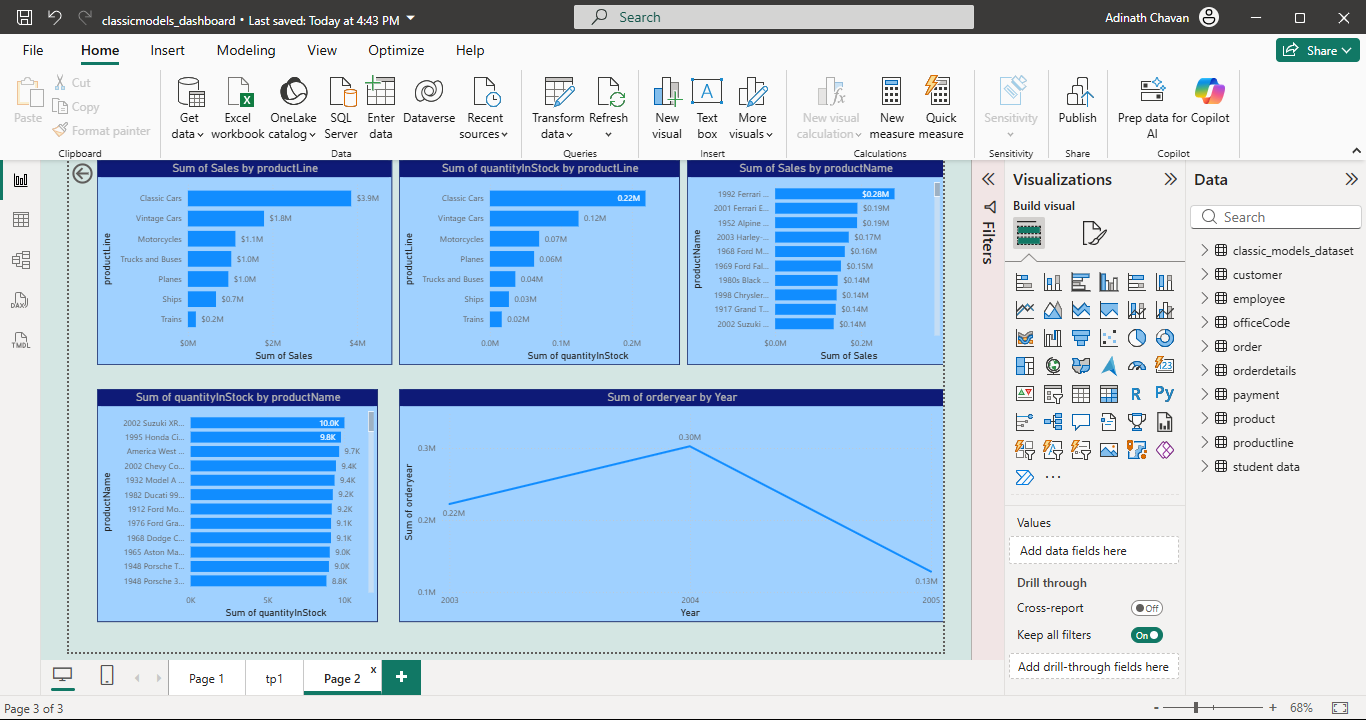

What the dashboard file says about the page in this screenshot:
{"tool":"powerbi","page":{"name":"Page 2","canvas":[1280,720],"ordinal":2},"visuals":[{"type":"actionButton","box":[0,0,41,39.5],"z":0},{"type":"barChart","fields":{"Category":["productline.productLine"],"Y":["Sum(orderdetails.Sales)"]},"box":[41,0,431.7,300],"z":1000},{"type":"barChart","fields":{"Y":["Sum(orderdetails.Sales)"],"Category":["product.productName"]},"box":[904.4,0,376.1,300],"z":2000},{"type":"barChart","fields":{"Category":["product.productName"],"Y":["Sum(product.quantityInStock)"]},"box":[41,335.1,411.2,341],"z":3000},{"type":"barChart","fields":{"Category":["productline.productLine"],"Y":["Sum(product.quantityInStock)"]},"box":[482.9,0,411.2,300],"z":4000},{"type":"lineChart","fields":{"Category":["order.orderDate.Variation.Date Hierarchy.Year","order.orderDate.Variation.Date Hierarchy.Quarter","order.orderDate.Variation.Date Hierarchy.Month","order.orderDate.Variation.Date Hierarchy.Day"],"Y":["Sum(order.orderyear)"]},"box":[482.9,335.1,797.6,341],"z":5000}]}

Visuals, with their boxes on the page's 1280x720 design canvas (x1, y1, x2, y2). These are canvas units, not pixel positions in the 1366x720 screenshot, which may show the page scaled, cropped or inside an application window:
actionButton: box(0, 0, 41, 40)
barChart - productline.productLine x Sum(orderdetails.Sales): box(41, 0, 473, 300)
barChart - Sum(orderdetails.Sales) x product.productName: box(904, 0, 1280, 300)
barChart - product.productName x Sum(product.quantityInStock): box(41, 335, 452, 676)
barChart - productline.productLine x Sum(product.quantityInStock): box(483, 0, 894, 300)
lineChart - order.orderDate.Variation.Date Hierarchy.Year x order.orderDate.Variation.Date Hierarchy.Quarter: box(483, 335, 1280, 676)
